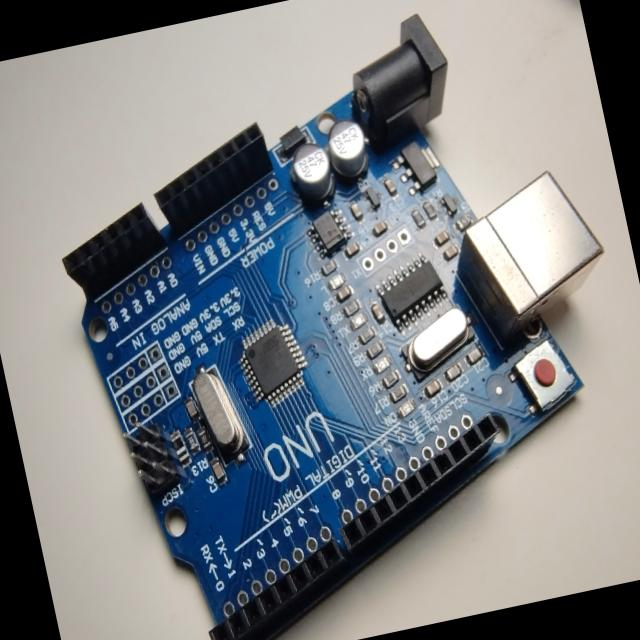arduino: (23, 0, 640, 640)
